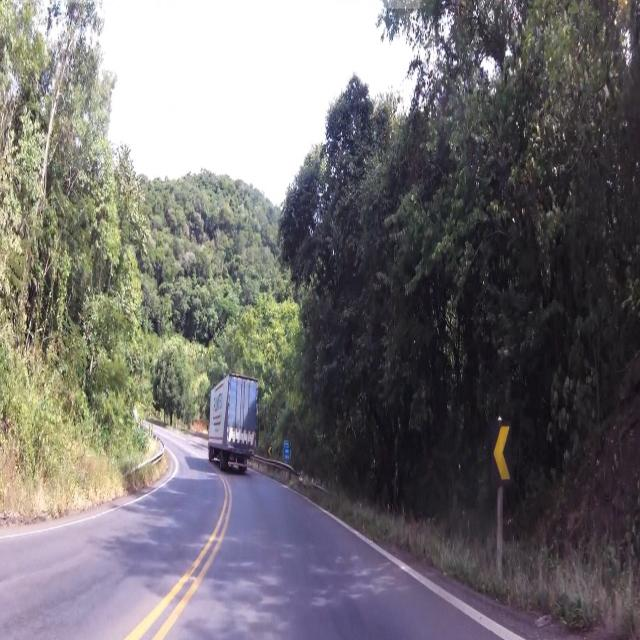Del: (489, 420, 513, 482)
